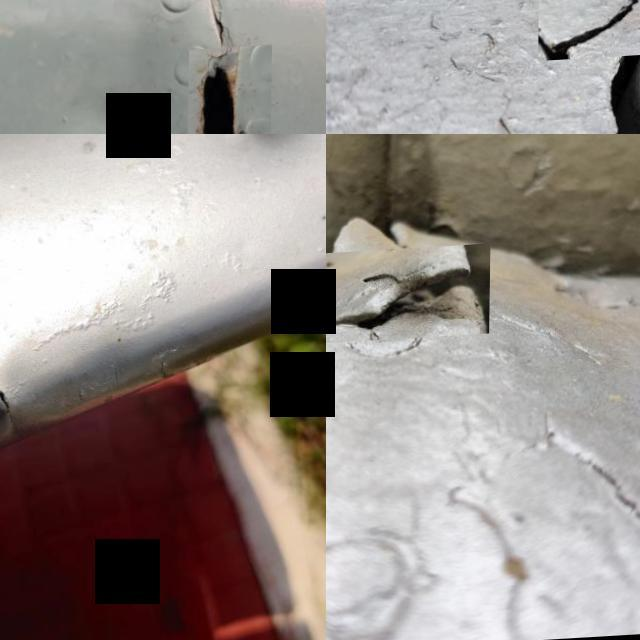Crack: (326, 247, 490, 346), (188, 49, 272, 134), (539, 0, 640, 63), (0, 337, 36, 458)
Dent: (225, 134, 322, 175)
